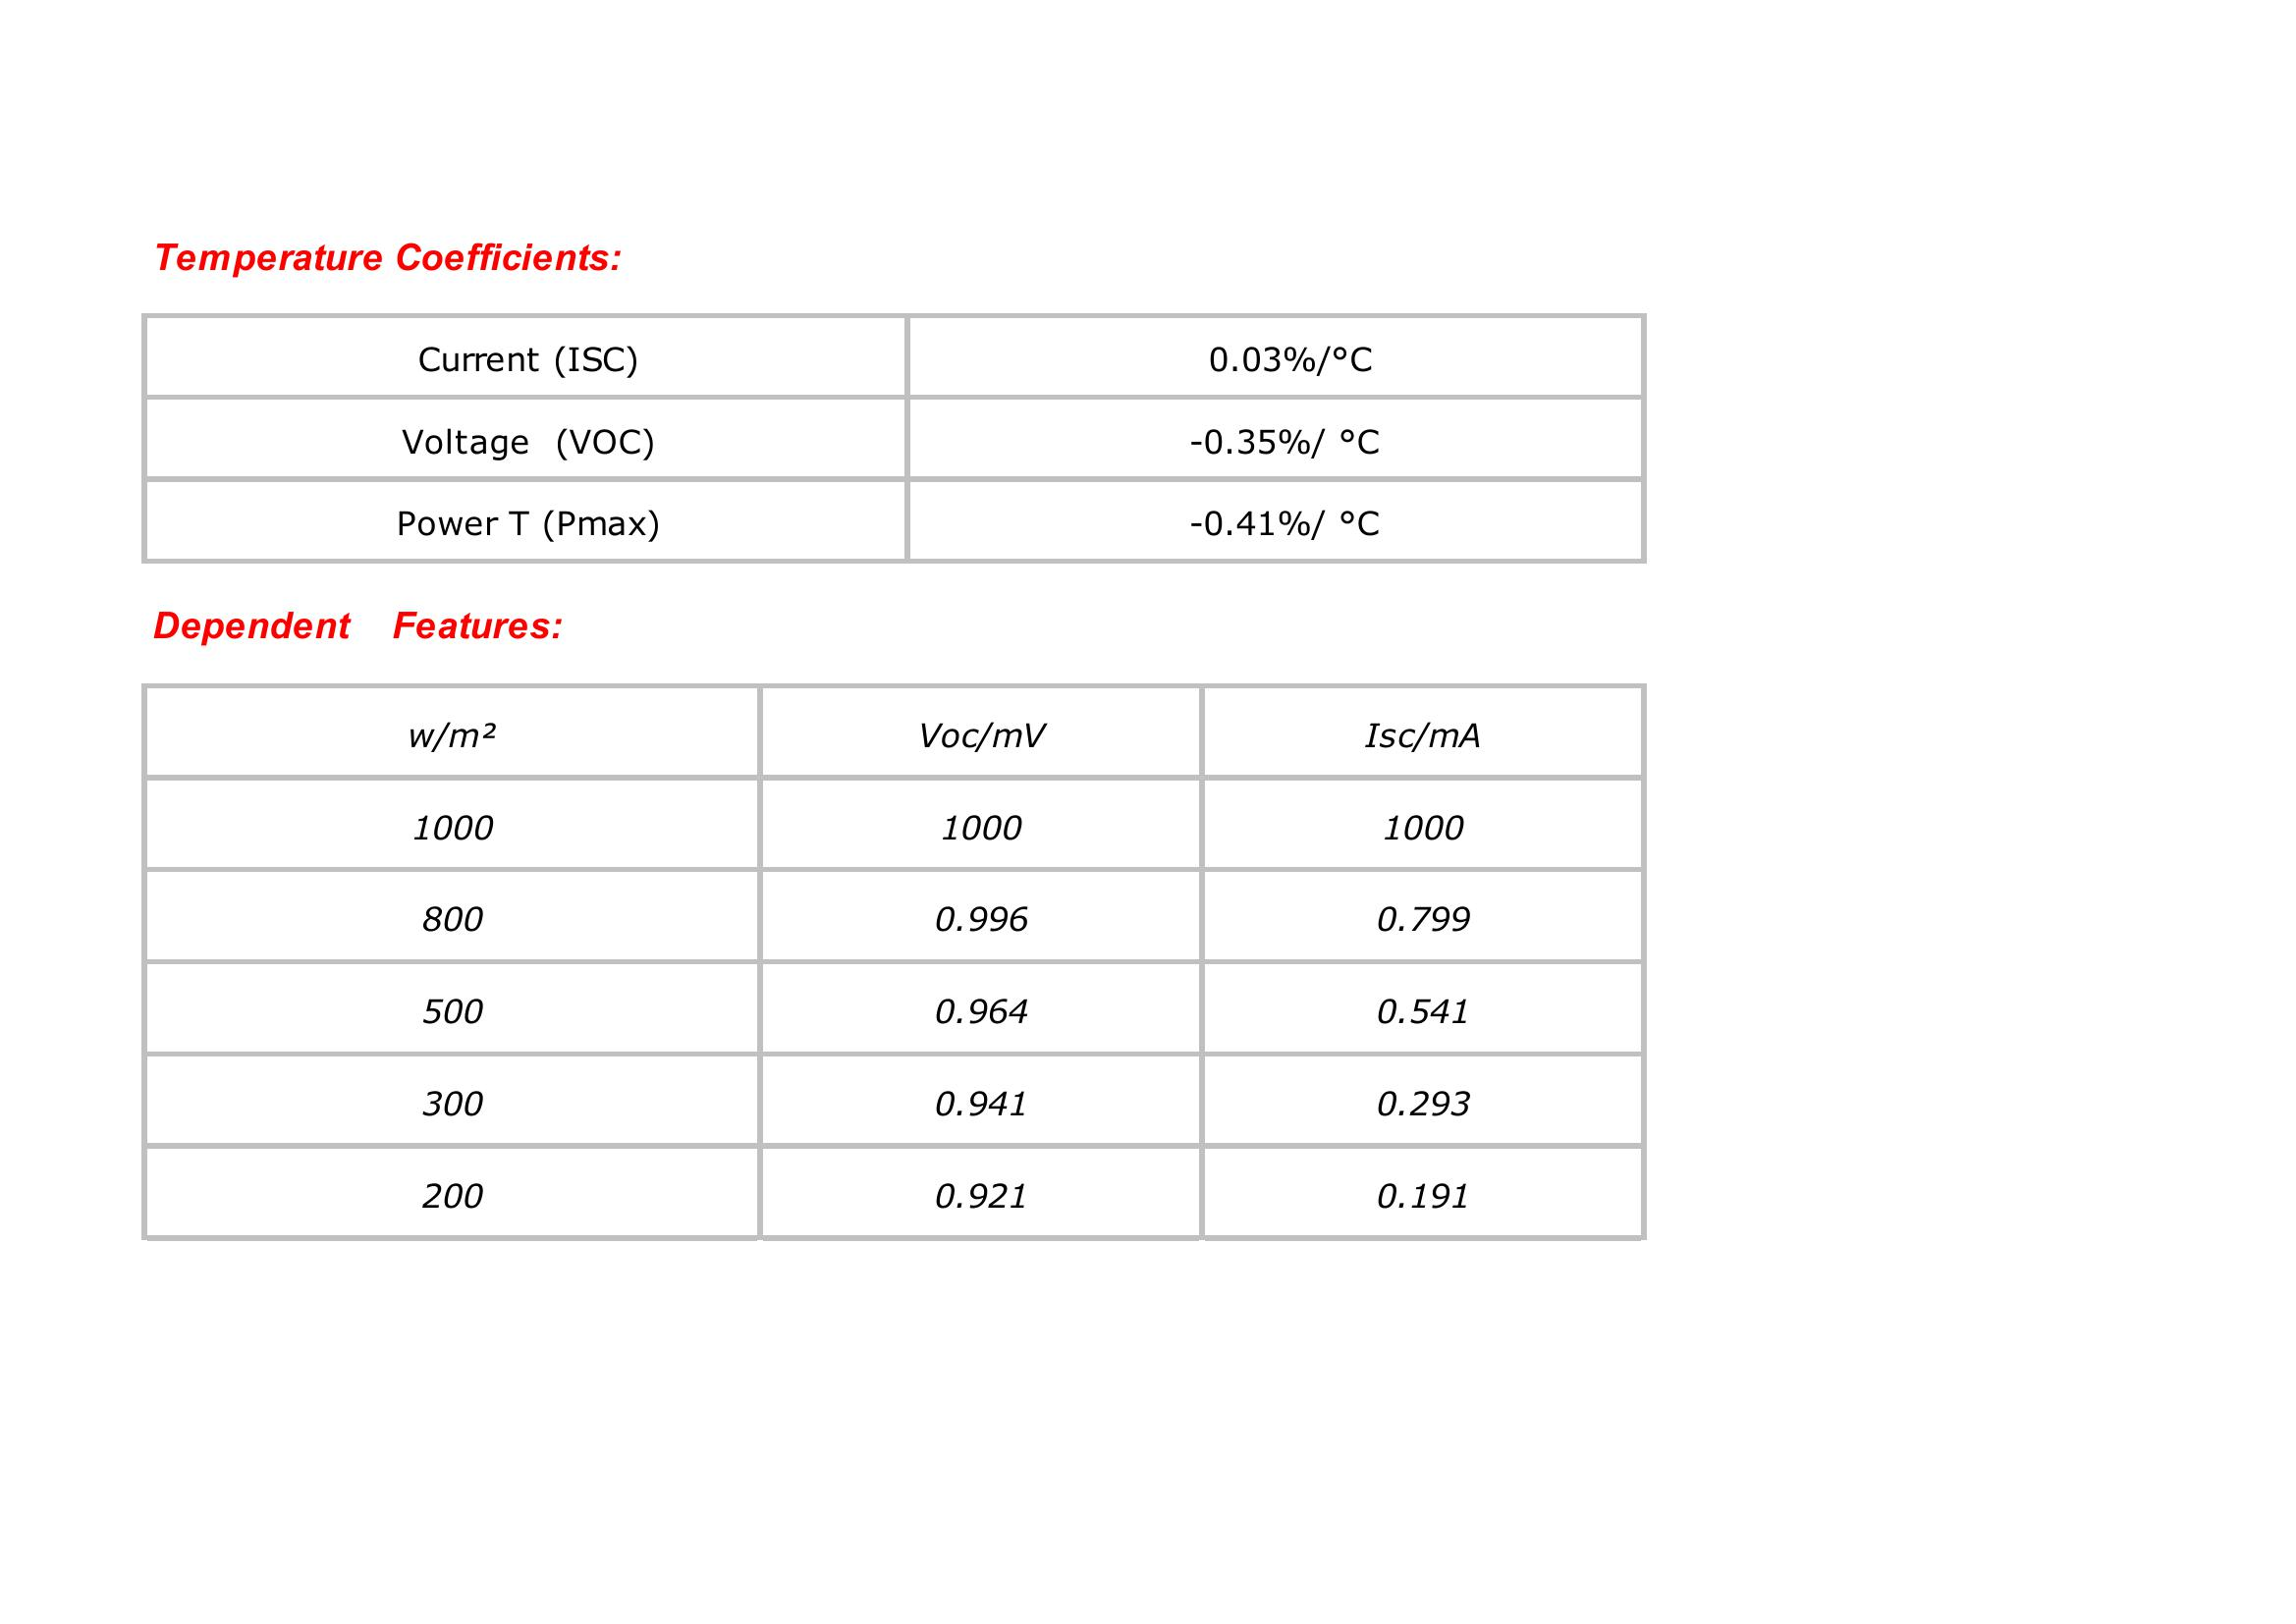table: (128, 675, 1658, 1251), (127, 301, 1663, 575)
